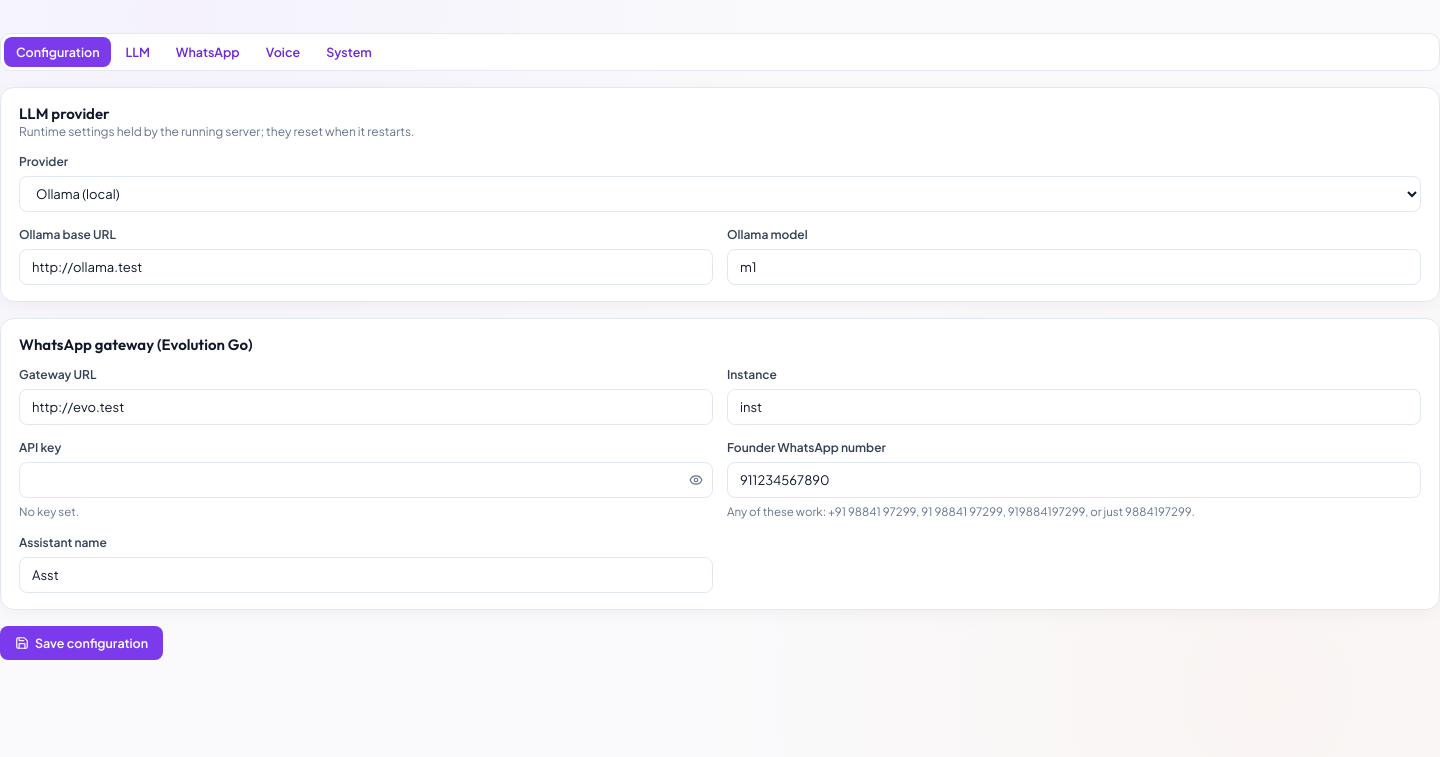
Scenario: DevConsoleView › llm tab › shows offline state with server message
Click the tab "LLM".
click(138, 52)  # box [114,36,162,66]
(page scrolled)
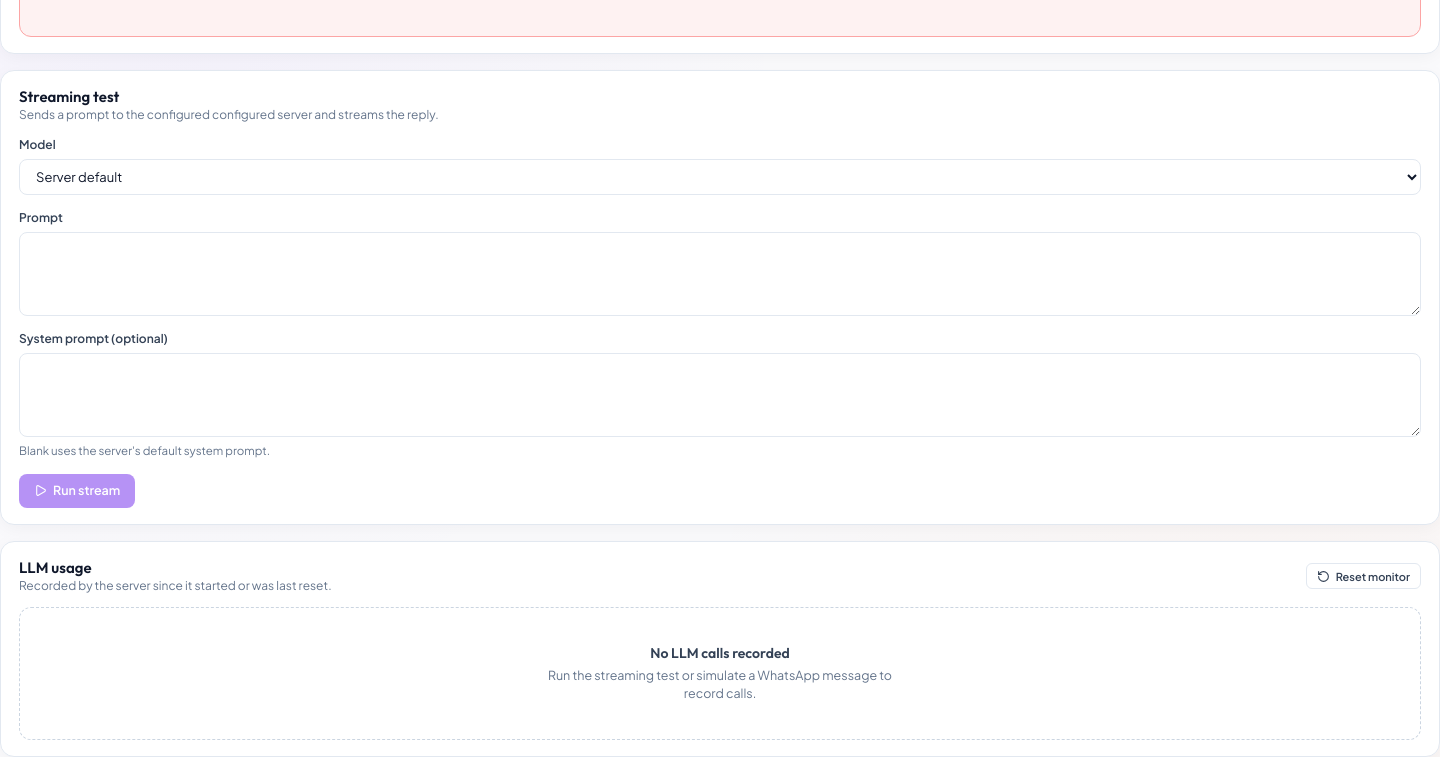
Expected: the text "No LLM calls recorded" is shown, [650,644,790,662]
